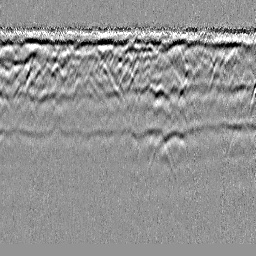cavity: (116, 67, 138, 95)
